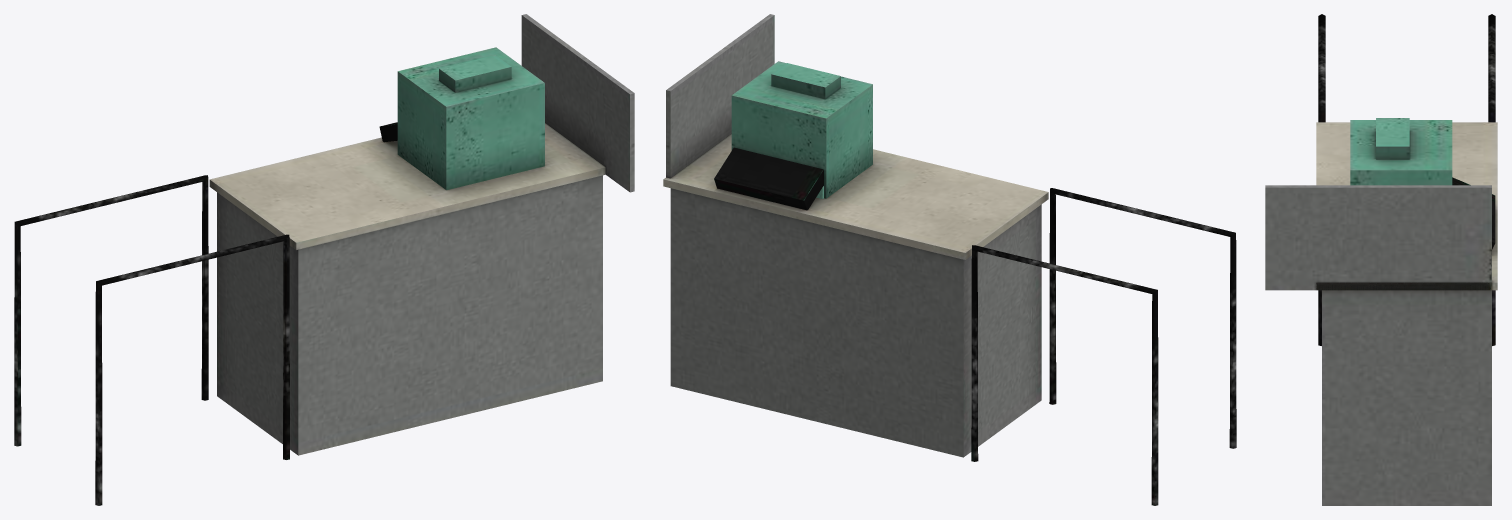
The model's file is checkout_lod1_web.glb.
The picture shows the model from 3 angles, left to right: view 1: azimuth 30°, elevation 25°; view 2: azimuth 150°, elevation 25°; view 3: azimuth 270°, elevation 25°; orthographic projection. The views are drawn at different scales.
Visible parts, largest first — view 1: Checkout_Body; view 2: Checkout_Body; view 3: Checkout_Body.
Boxes of the visible parts, x1,y1,x2,y2 form: Checkout_Body: [14, 14, 634, 505]; Checkout_Body: [663, 14, 1236, 505]; Checkout_Body: [1265, 14, 1497, 505].
Size of the model in its own units: 2.18 by 1.27 by 0.82.
1 material, 1 textured.
